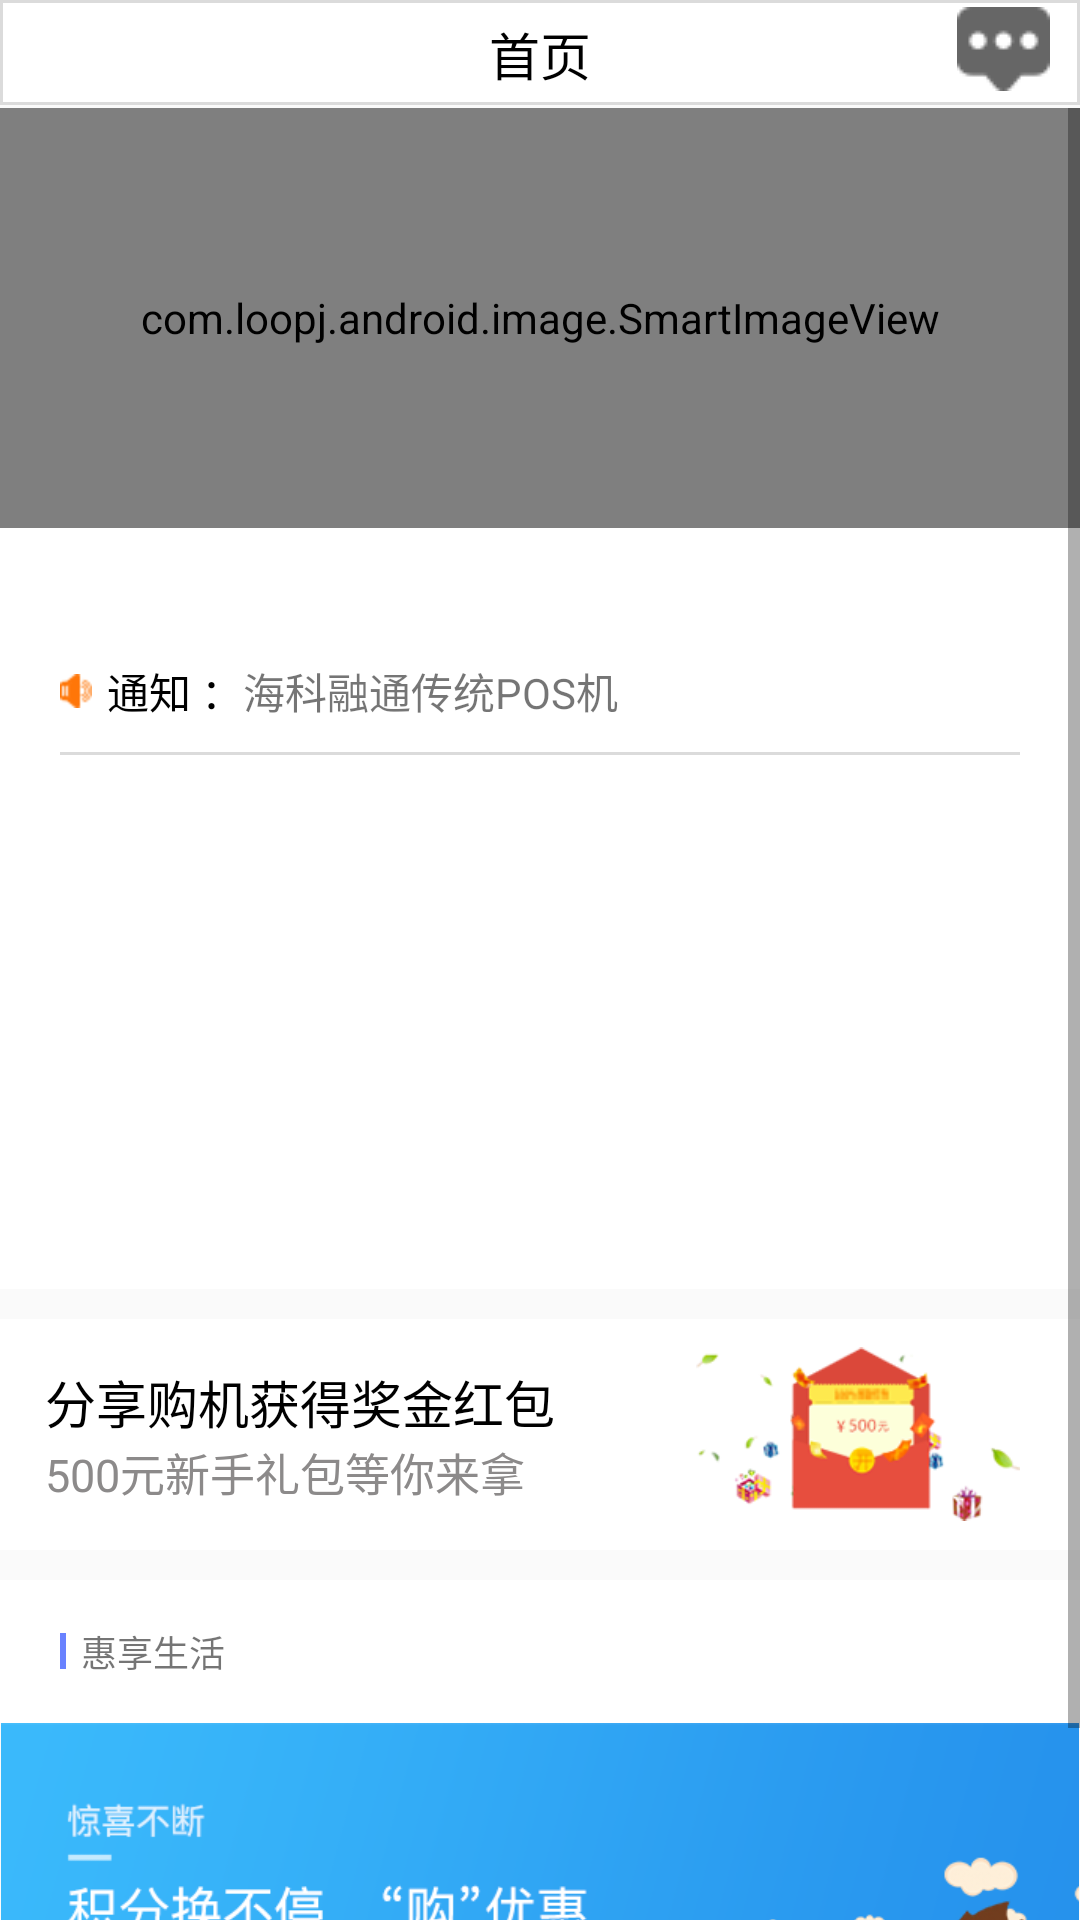

Icons on this 1080*1920 Android screen, each with its box as bbox=(x1, y1, x2, y2):
notify: bbox=(957, 7, 1050, 91)
redpk: bbox=(697, 1347, 1020, 1521)
voice: bbox=(60, 674, 92, 708)
